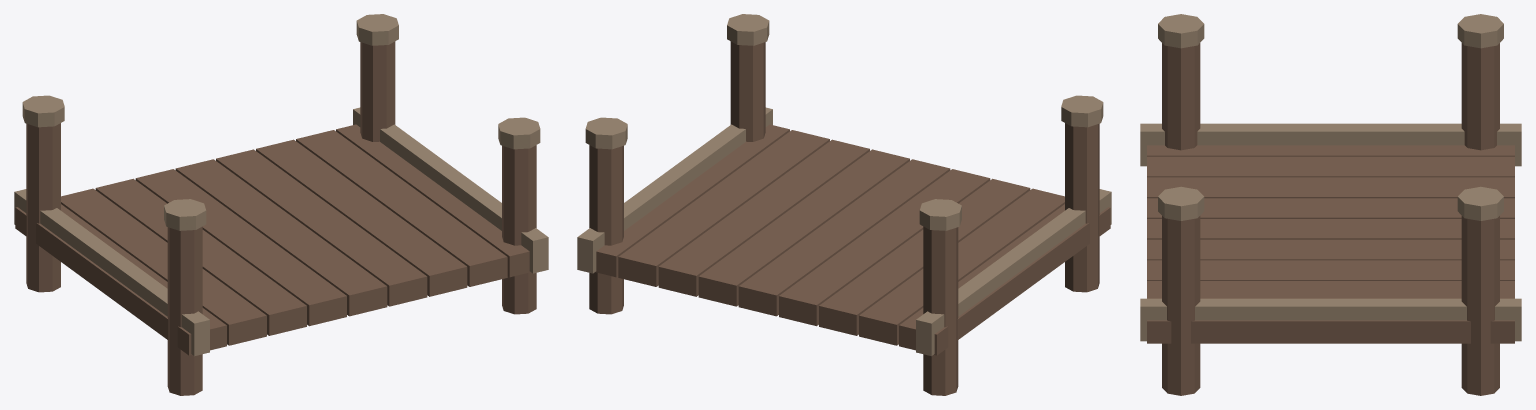
The model's file is dock.glb.
The picture shows the model from 3 angles, left to right: view 1: azimuth 30°, elevation 25°; view 2: azimuth 150°, elevation 25°; view 3: azimuth 270°, elevation 25°; orthographic projection. The views are drawn at different scales.
Visible parts, largest first — view 1: Dock plank, Pale post cap; view 2: Dock plank, Pale post cap; view 3: Dock plank, Pale post cap.
Part boxes in pixels (x1=…): Dock plank: x1=15, y1=41, x2=536, y2=395; Pale post cap: x1=14, y1=14, x2=548, y2=356; Dock plank: x1=589, y1=41, x2=1110, y2=395; Pale post cap: x1=577, y1=14, x2=1111, y2=356; Dock plank: x1=1147, y1=43, x2=1514, y2=395; Pale post cap: x1=1140, y1=14, x2=1521, y2=341.
Size of the model in its own units: 3.34 by 1.55 by 2.8.
